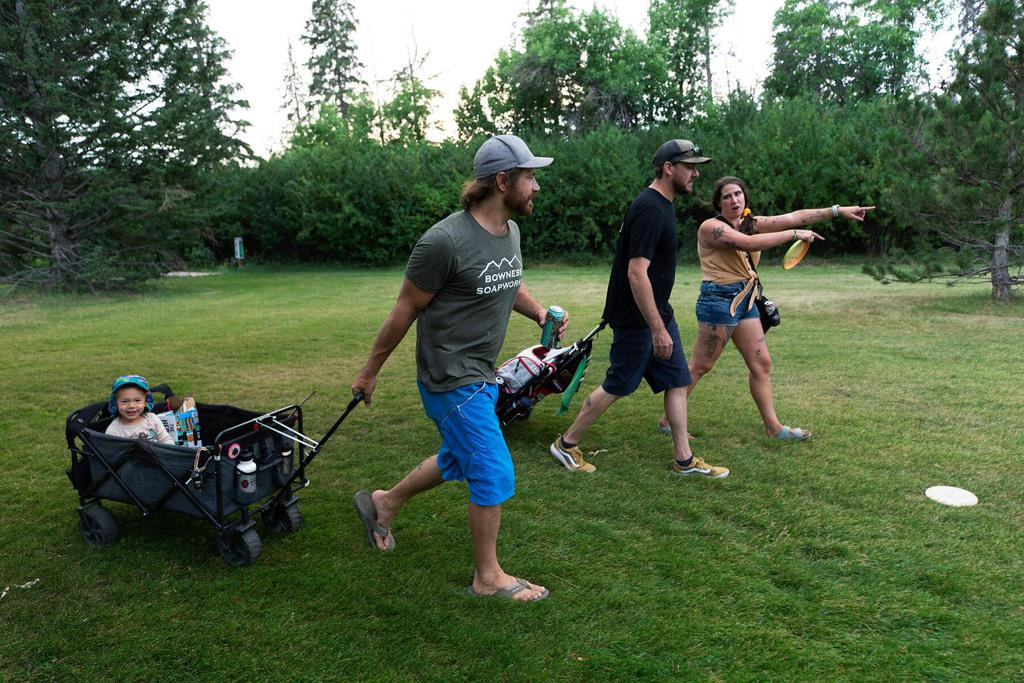child: (88, 367, 183, 474)
